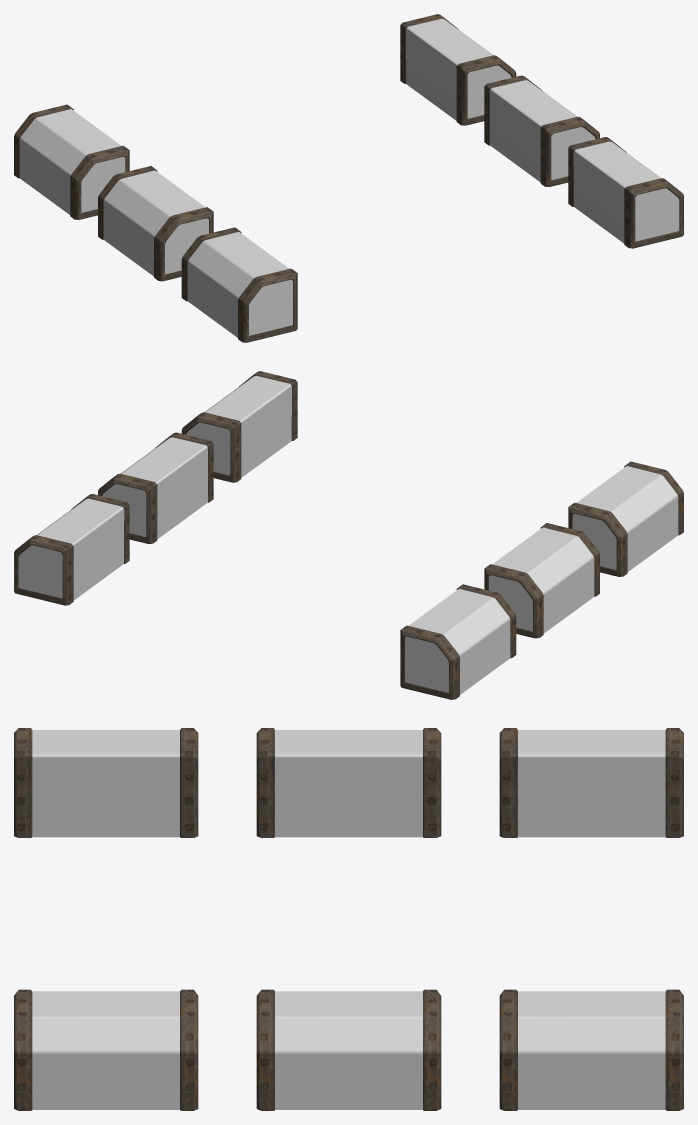
3 renders of one model, top to bottom at view 1: azimuth 30°, elevation 25°; view 2: azimuth 150°, elevation 25°; view 3: azimuth 270°, elevation 25°, orthographic. The views are drawn at different scales.
Visible parts, largest first — view 1: SM_Dowdun_Walkway_Battlements_8x8_01_LOD0; view 2: SM_Dowdun_Walkway_Battlements_8x8_01_LOD0; view 3: SM_Dowdun_Walkway_Battlements_8x8_01_LOD0.
Part boxes in pixels (bbox=[...]): SM_Dowdun_Walkway_Battlements_8x8_01_LOD0: bbox=[14, 14, 683, 342]; SM_Dowdun_Walkway_Battlements_8x8_01_LOD0: bbox=[14, 371, 683, 699]; SM_Dowdun_Walkway_Battlements_8x8_01_LOD0: bbox=[14, 728, 683, 1110].
Size of the model in its own units: 8 by 1 by 7.27.
Materials: 2 (1 with a texture image).
